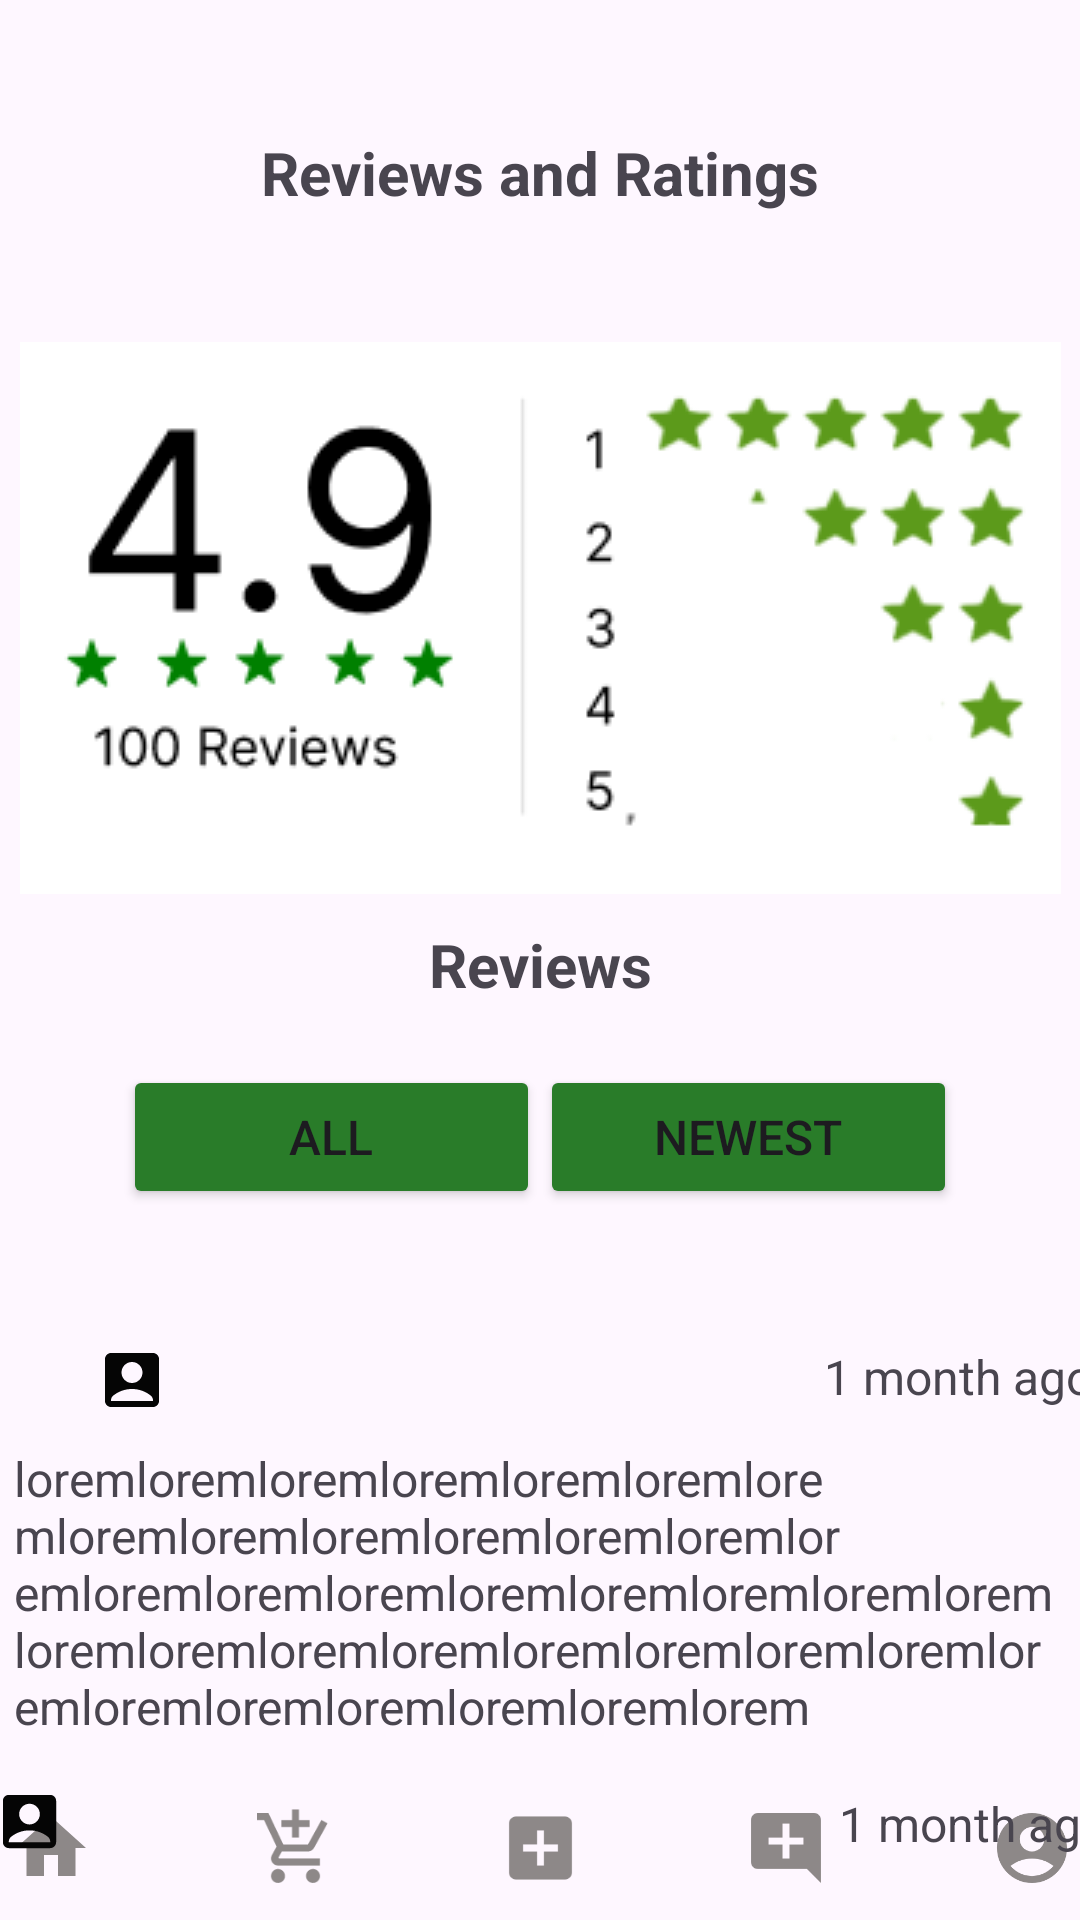

Screen size 1080 × 1920. Icon name, then its box in pixels as (x1, y1, x2, y2):
add box: (509, 1816, 572, 1880)
add shopping cart: (257, 1809, 328, 1883)
